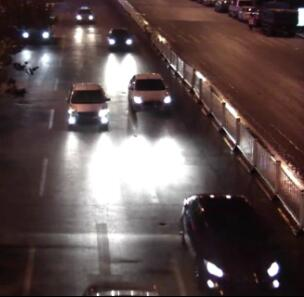car: (179, 192, 285, 291), (64, 80, 113, 130), (126, 72, 174, 115), (18, 15, 51, 44), (102, 26, 134, 53), (75, 5, 95, 23)
